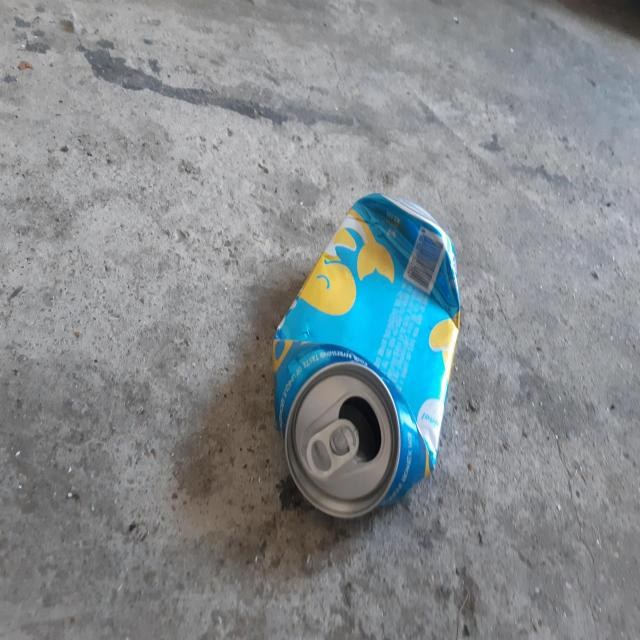can: (273, 193, 461, 518)
